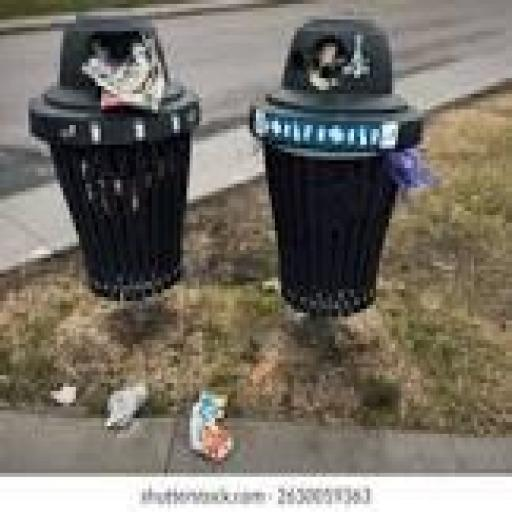poubelle_vide: (244, 7, 436, 319), (34, 4, 224, 298)
